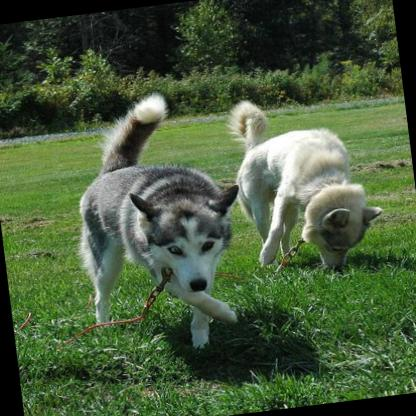Siberian_husky: (56, 82, 258, 363), (222, 82, 386, 280)
